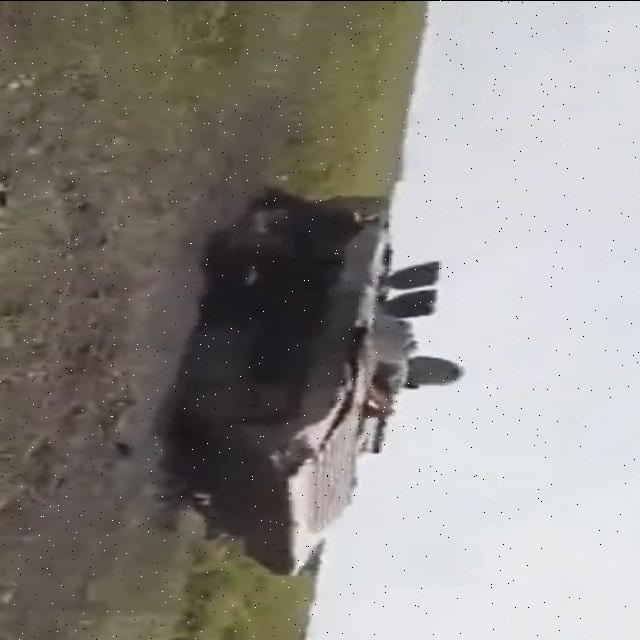APC-IFV: (167, 193, 453, 575)
